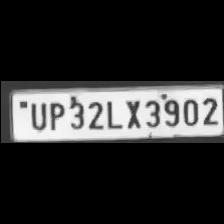0: (179, 96, 199, 127)
2: (84, 98, 104, 130), (199, 94, 219, 126)
3: (64, 97, 84, 130), (142, 96, 160, 128)
9: (160, 95, 180, 127)
L: (103, 97, 121, 130)
P: (44, 99, 64, 131)
U: (25, 99, 45, 130)
X: (122, 97, 142, 129)
